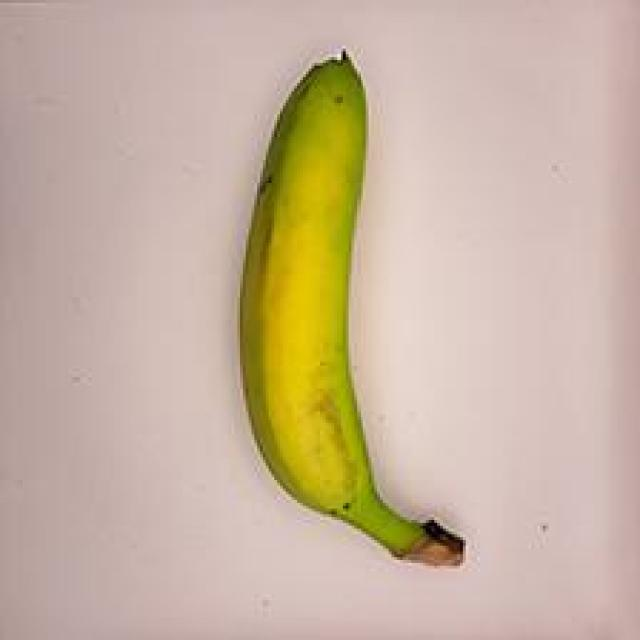Unripe: (200, 46, 498, 595)
